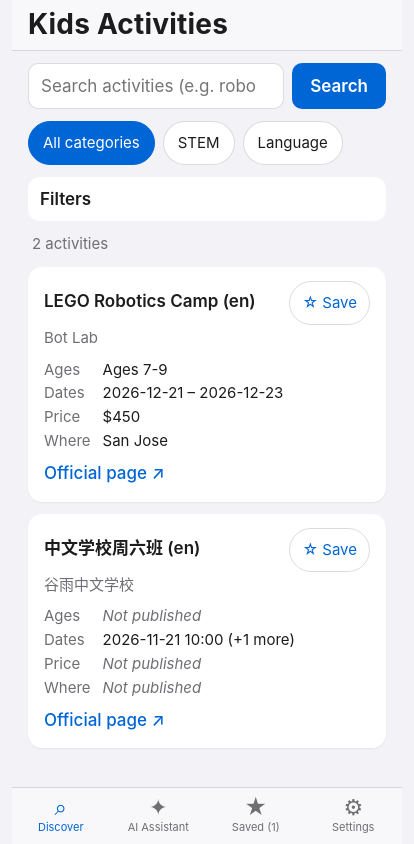
Test: Saved keeps showing an activity that is no longer listed, with a note
This screenshot has width=414, height=844.
Click the button with class "tab" showing "★ Saved (1)" at (256, 816), box [207, 788, 304, 843]
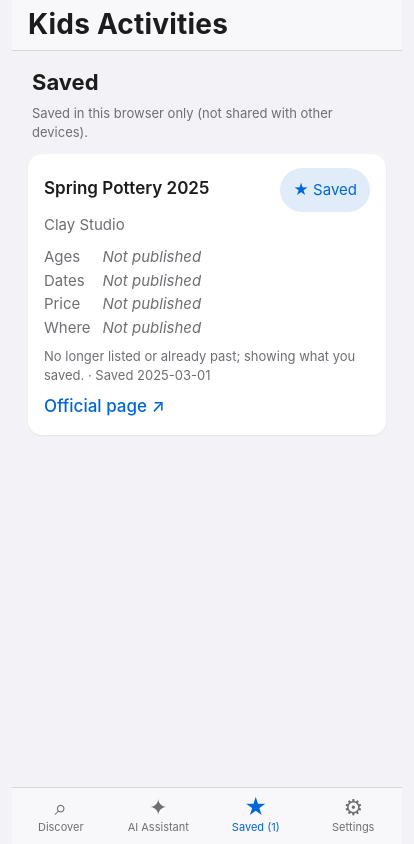
Check: the text with class "note" reads "No longer listed or already past; showing what you saved. · Saved 2025-03-01", box [44, 348, 355, 383]
